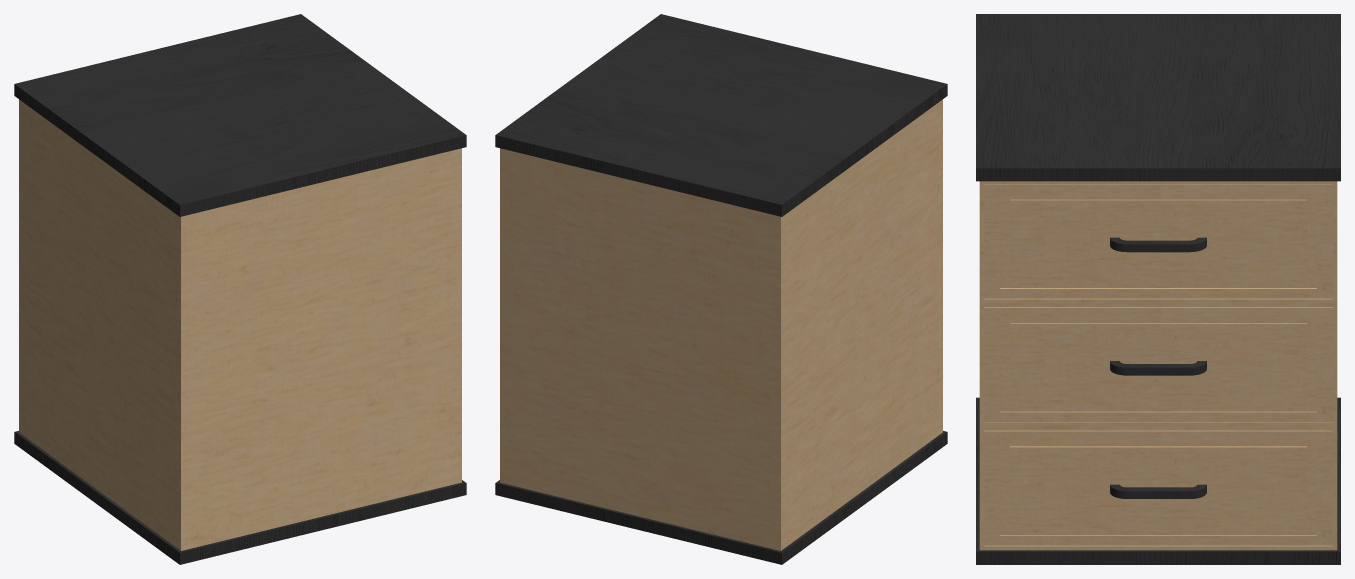
Rendered from single_stand.glb.
3 renders of one model, left to right at view 1: azimuth 30°, elevation 25°; view 2: azimuth 150°, elevation 25°; view 3: azimuth 270°, elevation 25°, orthographic. The views are drawn at different scales.
Parts seen in each view (by area): view 1: single_stand; view 2: single_stand; view 3: single_stand, latch_2, latch_3, latch_1.
Boxes of the visible parts, <box> form: single_stand: <box>14,14,466,564</box>; single_stand: <box>495,14,947,564</box>; single_stand: <box>976,14,1340,564</box>; latch_2: <box>984,430,1332,545</box>; latch_3: <box>984,307,1332,422</box>; latch_1: <box>984,184,1332,298</box>.
Size of the model in its own units: 1.03 by 1.2 by 1.
Materials: 4 (4 with a texture image).
